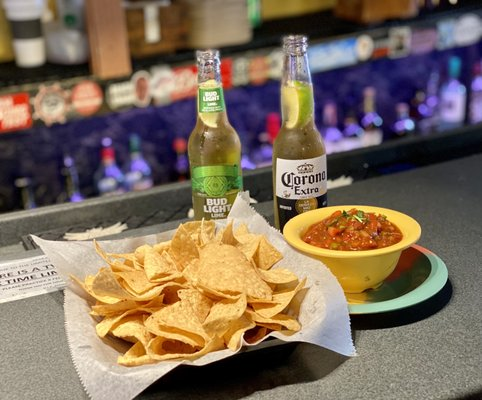soup: (186, 242, 274, 310)
sushi: (282, 205, 422, 295)
